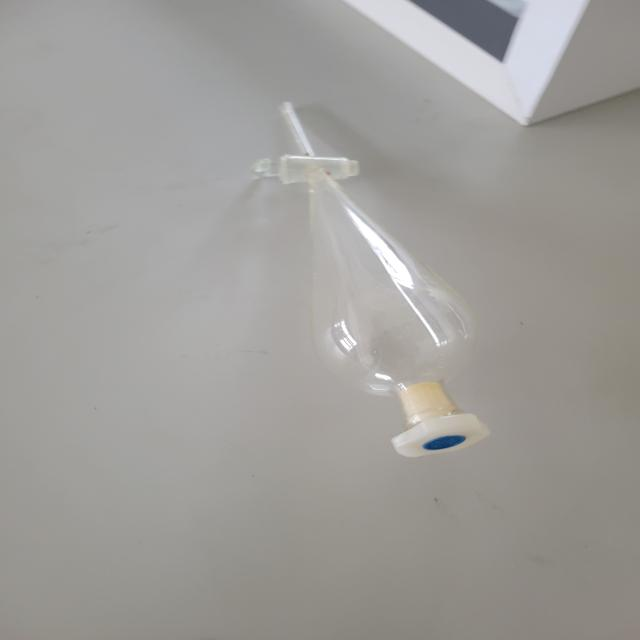Separating_Funnel: (187, 64, 541, 508)
